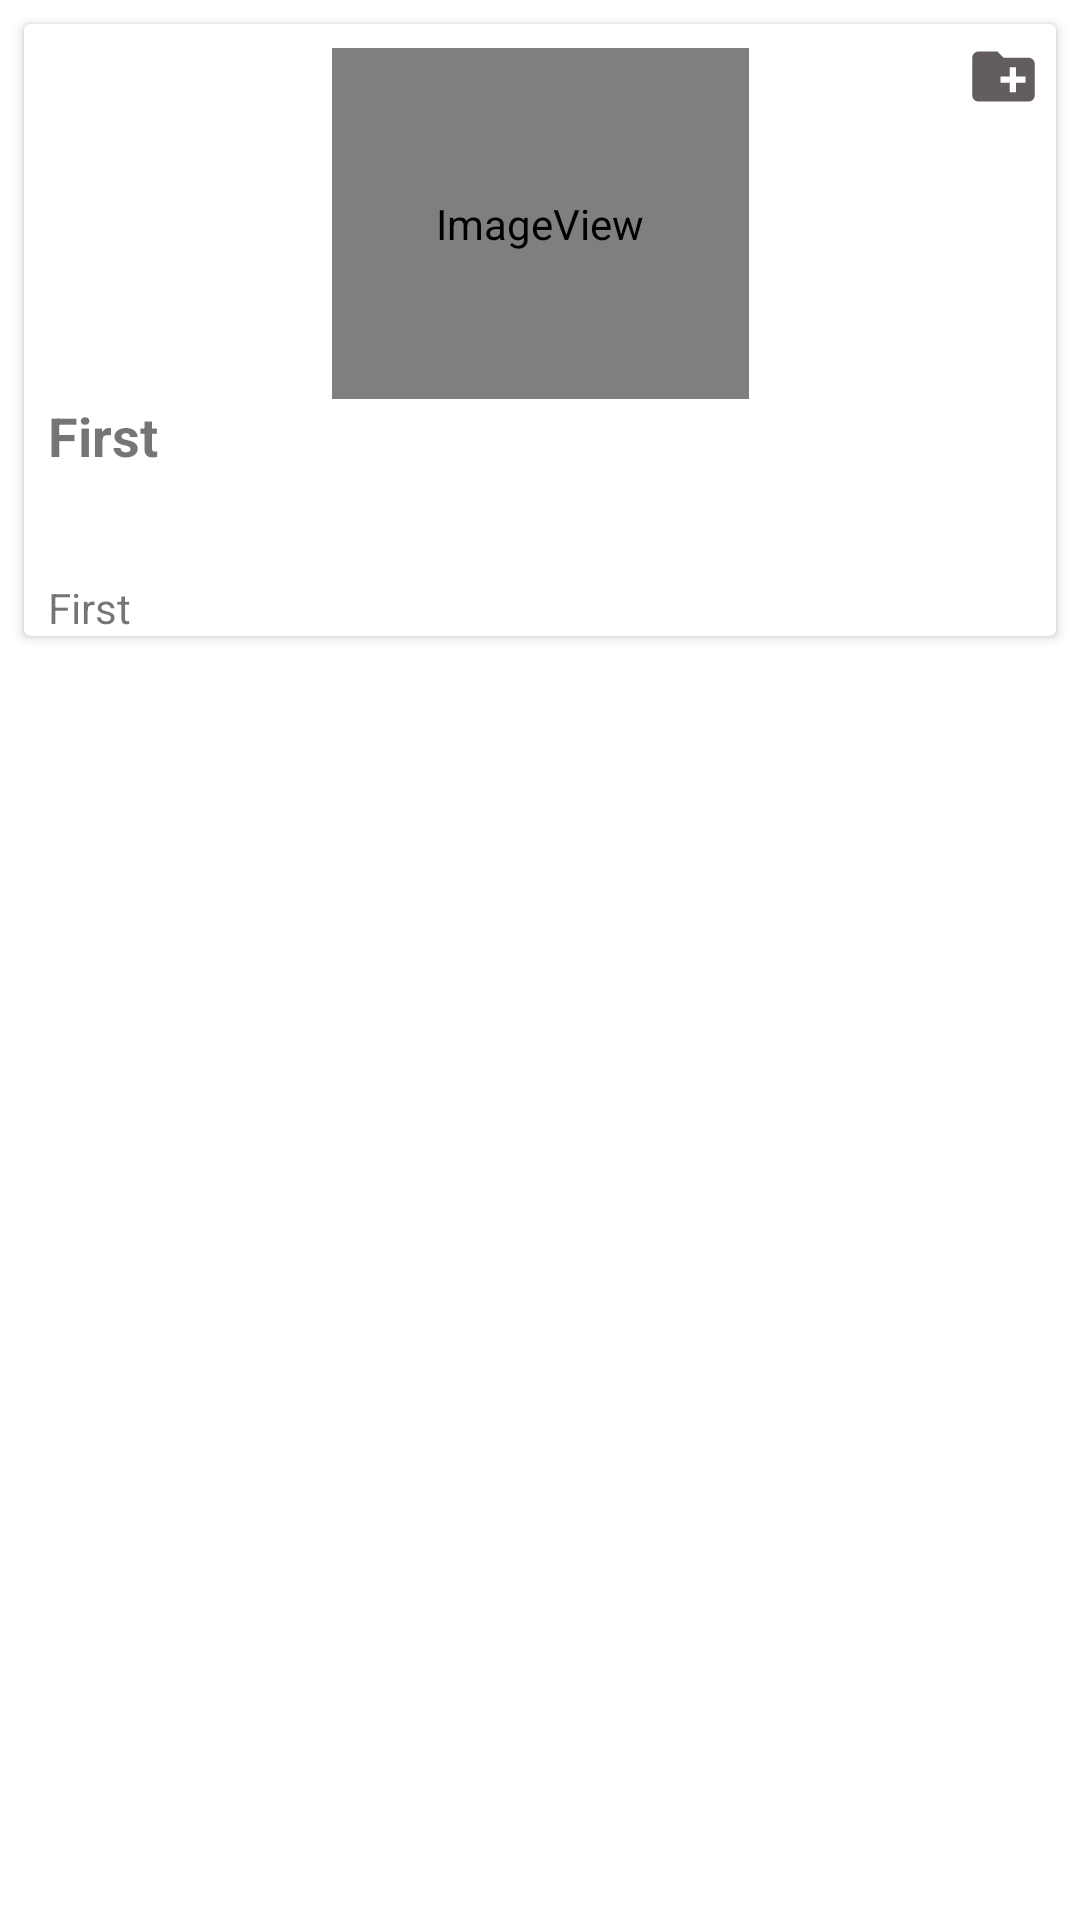

Locate icon controls on the screen. Image size 1080 x 1920, boxes as (x1, y1, x2, y2).
folder: (972, 51, 1035, 102)
